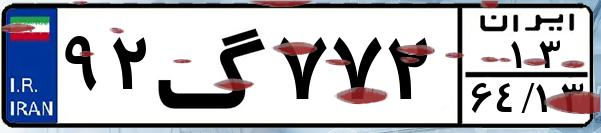1: (508, 27, 537, 80), (535, 70, 560, 125)
2: (385, 28, 445, 110), (110, 28, 156, 98)
3: (560, 70, 590, 125), (537, 27, 568, 80)
4: (495, 70, 520, 125)
6: (470, 70, 495, 125)
7: (270, 28, 330, 110), (330, 28, 385, 110)
9: (57, 26, 110, 100)
گ: (156, 12, 270, 120)
